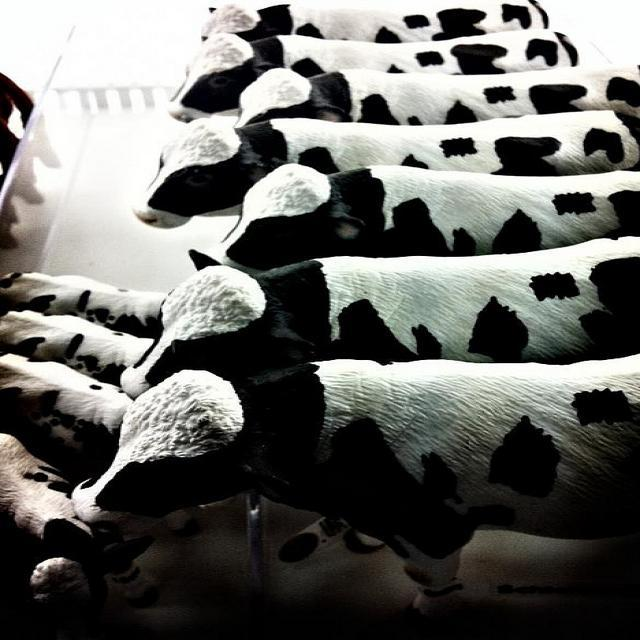cow: (64, 349, 639, 630), (122, 237, 639, 394), (130, 107, 639, 228), (170, 21, 617, 118), (211, 164, 639, 265), (232, 66, 636, 122), (198, 0, 551, 44), (0, 351, 129, 471), (0, 306, 141, 380), (0, 272, 167, 332)
